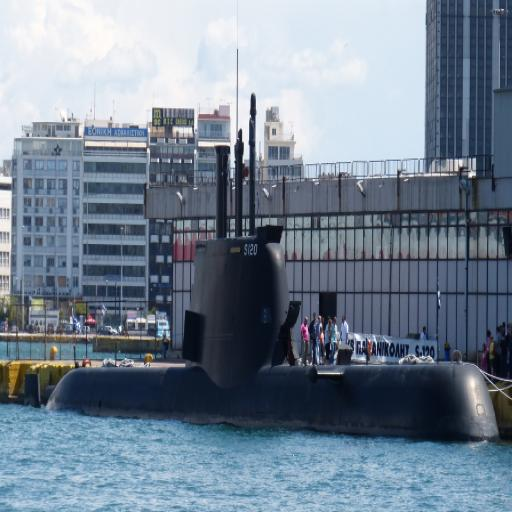submarine: (30, 91, 496, 452)
